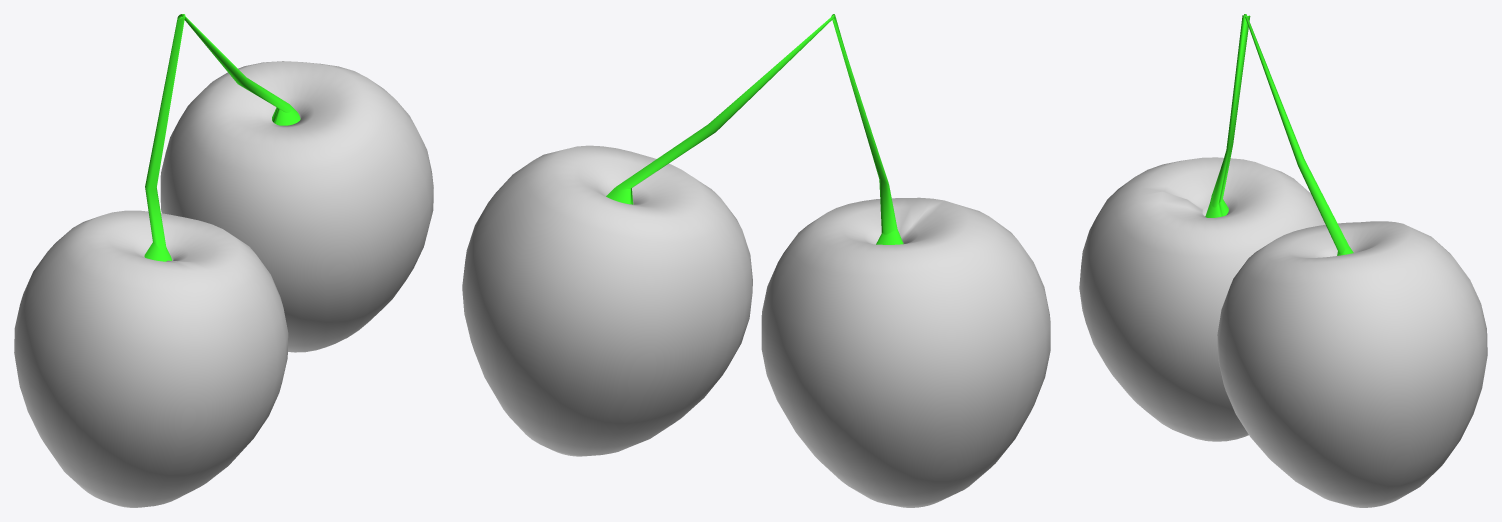
Rendered from cherry.fbx.
3 views of the same model, side by side, from view 1: azimuth 30°, elevation 25°; view 2: azimuth 150°, elevation 25°; view 3: azimuth 270°, elevation 25° (orthographic). The views are drawn at different scales.
Visible parts, largest first — view 1: Sphere.002, Sphere, Sphere.004, Sphere.001; view 2: Sphere.002, Sphere, Sphere.001, Sphere.004; view 3: Sphere, Sphere.002, Sphere.001, Sphere.004.
Boxes of the visible parts, x1,y1,x2,y2 form: Sphere.002: [14, 210, 288, 507]; Sphere: [160, 61, 433, 352]; Sphere.004: [144, 14, 185, 261]; Sphere.001: [181, 14, 300, 125]; Sphere.002: [761, 197, 1050, 507]; Sphere: [462, 145, 752, 456]; Sphere.001: [606, 14, 834, 204]; Sphere.004: [831, 14, 903, 244]; Sphere: [1217, 221, 1487, 507]; Sphere.002: [1079, 157, 1325, 441]; Sphere.001: [1244, 14, 1353, 255]; Sphere.004: [1205, 15, 1250, 217].
Bounding box in the file's own units: 404 × 391 × 324.
